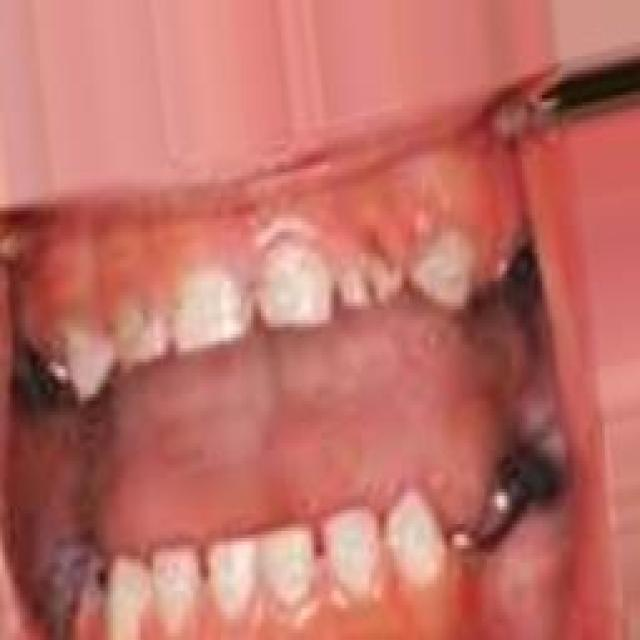caries: (339, 247, 401, 323)
